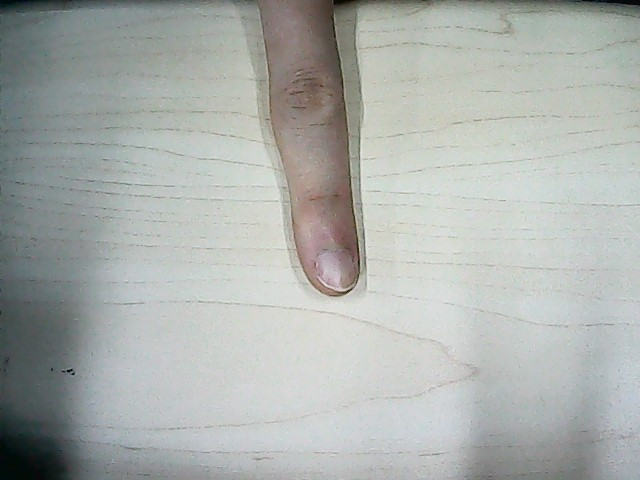nail: (316, 250, 356, 292)
